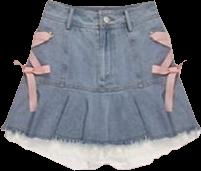Hemline: (0, 129, 200, 170)
Waistline: (24, 69, 178, 90), (48, 0, 155, 12)
